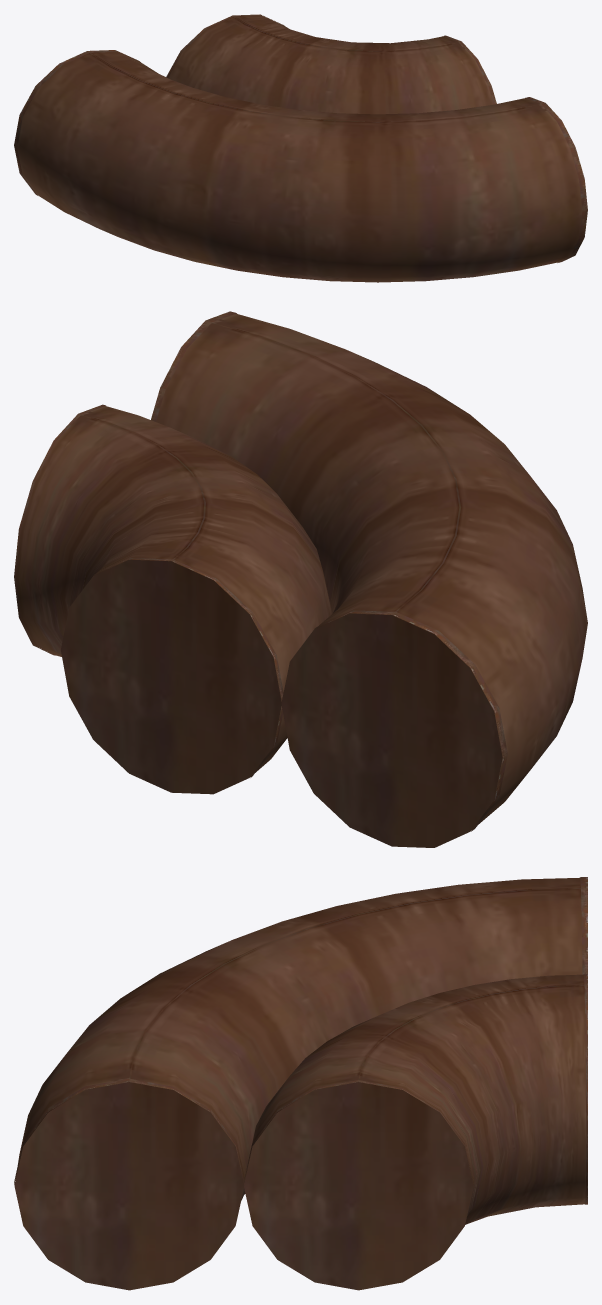
The model's file is pipeline_200x300_bend.glb.
The picture shows the model from 3 angles, top to bottom: view 1: azimuth 30°, elevation 25°; view 2: azimuth 150°, elevation 25°; view 3: azimuth 270°, elevation 25°; orthographic projection. The views are drawn at different scales.
Parts seen in each view (by area): view 1: pipeline_200x300_bend_LOD0; view 2: pipeline_200x300_bend_LOD0; view 3: pipeline_200x300_bend_LOD0.
Part boxes in pixels (left/top/right/bottom): pipeline_200x300_bend_LOD0: left=14, top=14, right=587, bottom=282; pipeline_200x300_bend_LOD0: left=14, top=311, right=587, bottom=847; pipeline_200x300_bend_LOD0: left=14, top=877, right=587, bottom=1290.
Bounding box in the file's own units: 2.5 × 1.01 × 2.5.
Materials: 2 (2 with a texture image).
